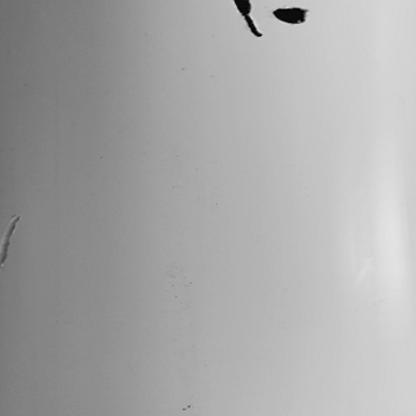kongdong: (229, 1, 261, 40), (272, 5, 310, 28)
sunshang: (1, 213, 22, 275)
